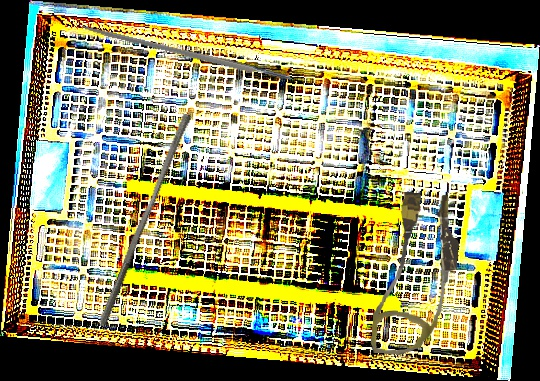Cannula: (370, 189, 463, 360)
Pusher: (98, 110, 192, 331)
Scalpel Handle: (81, 23, 293, 84)
